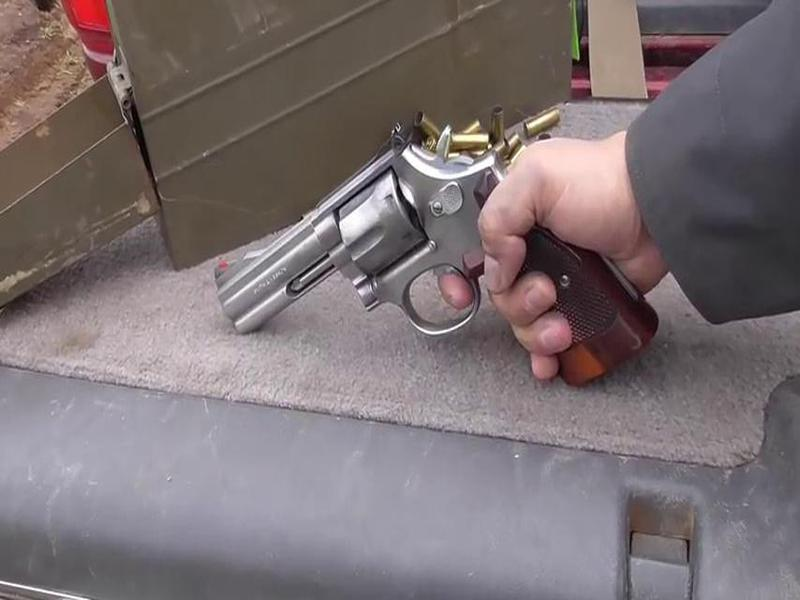Revolver: (202, 133, 543, 374)
